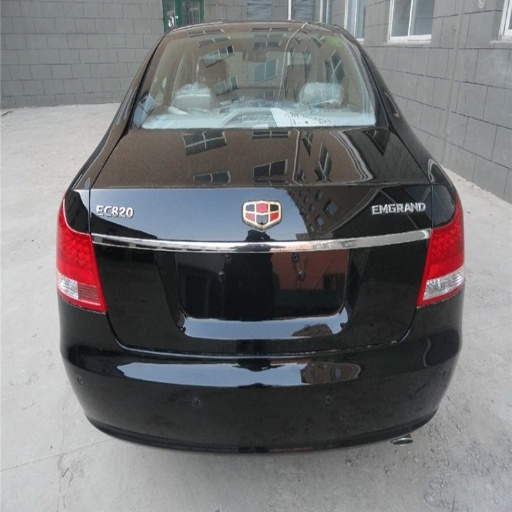back_bumper: (60, 299, 224, 476), (327, 289, 462, 470)
tailgate: (242, 112, 448, 348), (80, 168, 287, 368)
